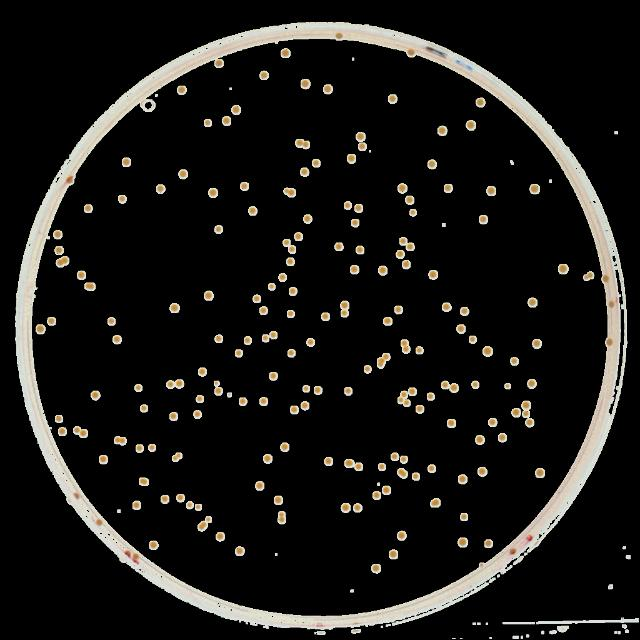colony: (196, 520, 208, 534), (235, 544, 247, 558), (396, 528, 408, 542), (604, 336, 616, 350), (95, 518, 109, 530), (230, 104, 243, 116), (482, 345, 493, 359), (169, 302, 181, 314), (204, 289, 216, 301), (262, 453, 274, 465), (214, 530, 226, 542), (534, 467, 546, 479), (474, 434, 486, 446), (529, 184, 541, 196), (474, 97, 486, 109), (322, 84, 334, 96), (300, 78, 312, 90), (130, 499, 142, 511), (148, 540, 160, 552), (370, 564, 384, 574), (458, 472, 468, 486), (354, 132, 368, 142), (203, 514, 214, 526), (497, 432, 508, 444), (436, 125, 448, 136), (348, 264, 359, 276), (511, 406, 521, 419), (120, 157, 132, 167), (35, 324, 47, 334), (198, 366, 208, 378), (272, 495, 284, 505), (161, 494, 171, 506), (185, 500, 195, 512), (388, 548, 398, 560), (340, 502, 350, 514), (382, 484, 392, 496), (397, 468, 409, 478), (484, 538, 496, 548), (478, 466, 488, 478), (520, 400, 532, 410), (527, 378, 537, 390), (532, 338, 542, 350), (478, 214, 488, 226), (443, 182, 453, 194), (388, 93, 398, 105), (346, 153, 356, 165), (406, 47, 416, 59), (281, 48, 291, 60), (302, 215, 314, 225), (140, 477, 150, 488), (213, 387, 224, 397), (176, 492, 186, 503), (526, 418, 536, 429), (486, 186, 496, 197), (353, 202, 362, 214), (178, 170, 188, 180), (86, 282, 96, 292), (175, 379, 185, 389), (169, 412, 179, 422), (290, 405, 300, 415), (280, 442, 290, 452), (254, 481, 264, 491), (353, 502, 363, 512), (344, 458, 354, 468), (324, 456, 334, 466), (390, 451, 400, 461), (411, 472, 421, 482), (430, 498, 440, 508), (458, 538, 468, 548), (459, 512, 469, 522), (488, 418, 498, 428), (447, 418, 457, 428), (510, 356, 520, 366), (528, 298, 538, 308), (468, 335, 478, 345), (456, 324, 466, 334), (459, 306, 469, 316), (442, 302, 452, 312), (428, 270, 438, 280), (427, 160, 437, 170), (466, 120, 476, 130), (358, 142, 368, 152), (294, 138, 304, 148), (302, 139, 312, 149), (350, 218, 360, 228), (208, 188, 218, 198), (334, 242, 344, 252), (378, 266, 388, 276), (405, 242, 415, 252), (398, 183, 408, 193), (408, 386, 418, 396), (450, 382, 460, 392), (558, 264, 568, 274), (606, 300, 616, 310), (72, 492, 82, 502), (176, 86, 188, 94), (220, 118, 232, 126), (508, 548, 520, 556), (204, 118, 213, 128), (156, 184, 166, 193), (140, 403, 150, 412), (214, 333, 223, 343), (238, 398, 248, 407), (268, 372, 278, 381), (194, 503, 203, 513), (378, 462, 387, 472), (521, 409, 531, 418), (214, 225, 223, 235), (398, 237, 408, 246), (402, 259, 411, 269), (259, 72, 269, 80), (60, 257, 70, 265), (56, 260, 66, 268), (78, 270, 86, 280), (108, 316, 116, 326), (92, 390, 100, 400), (148, 444, 156, 454), (373, 491, 381, 501), (355, 462, 363, 472), (399, 456, 409, 464), (427, 465, 437, 473), (334, 32, 344, 40), (313, 158, 321, 168), (300, 168, 310, 176), (288, 188, 296, 198), (344, 200, 352, 210), (396, 249, 404, 259), (409, 208, 417, 218), (401, 346, 411, 354), (382, 352, 392, 360), (377, 358, 385, 368), (340, 302, 350, 310), (290, 286, 298, 296), (302, 384, 310, 394), (344, 386, 352, 396), (416, 404, 424, 414), (122, 549, 132, 557), (132, 552, 140, 562), (66, 175, 74, 185), (55, 247, 63, 256), (112, 336, 121, 344), (134, 383, 142, 392), (194, 409, 202, 418), (406, 197, 414, 206), (301, 402, 309, 411), (212, 379, 222, 386), (119, 196, 127, 204), (85, 205, 93, 213), (54, 230, 62, 238), (48, 317, 56, 325), (58, 428, 66, 436), (79, 430, 87, 438), (100, 455, 108, 463), (119, 436, 127, 444), (166, 381, 174, 389), (196, 395, 204, 403), (278, 516, 286, 524), (477, 562, 485, 570), (504, 382, 512, 390), (288, 246, 296, 254), (240, 182, 248, 190), (356, 246, 364, 254), (394, 306, 402, 314), (384, 317, 392, 325), (416, 346, 424, 354), (363, 365, 371, 373), (307, 339, 315, 347), (287, 310, 295, 318), (278, 274, 286, 282), (288, 349, 296, 357), (235, 349, 243, 357), (314, 387, 322, 395), (400, 391, 408, 399), (402, 399, 410, 407), (586, 270, 594, 278), (602, 276, 610, 284), (526, 535, 534, 543), (136, 444, 142, 454), (340, 310, 350, 316), (282, 240, 290, 247), (248, 208, 256, 215), (214, 60, 223, 66), (74, 426, 80, 434), (115, 436, 121, 444), (176, 452, 182, 460), (260, 398, 268, 404), (278, 511, 286, 517), (296, 232, 302, 240), (288, 258, 294, 266), (322, 313, 328, 321), (254, 295, 260, 303), (442, 381, 448, 389), (472, 381, 478, 389), (582, 274, 590, 280), (401, 339, 407, 346), (428, 394, 434, 401), (56, 416, 62, 422), (283, 188, 289, 194), (269, 284, 275, 290), (261, 308, 267, 314), (271, 332, 277, 338), (262, 335, 268, 341), (245, 338, 251, 344), (398, 397, 402, 405), (173, 456, 179, 460), (228, 392, 232, 398)
